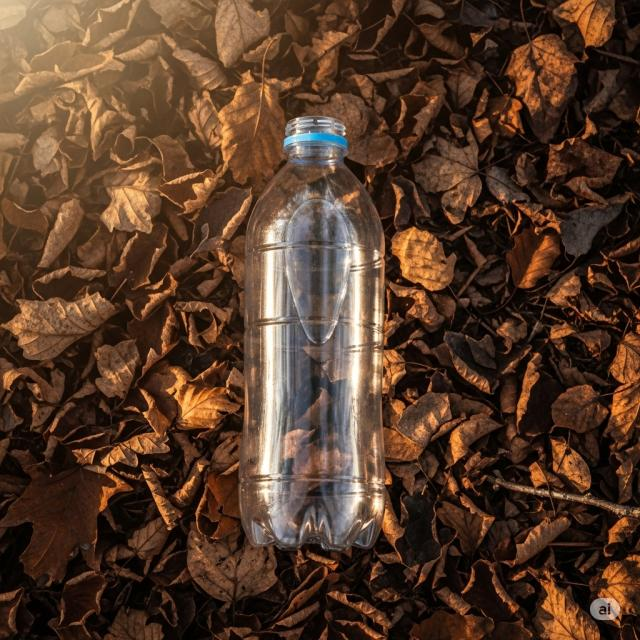plastic: (241, 112, 389, 554)
